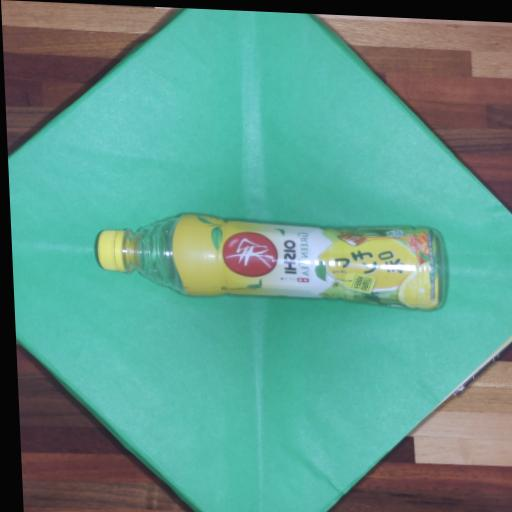bottle: (97, 214, 443, 308)
